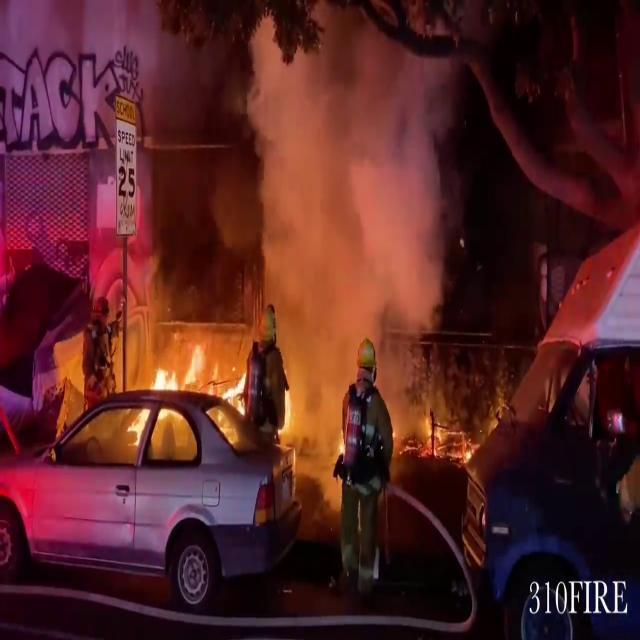Fire: (138, 330, 248, 408)
Smoke: (130, 2, 458, 400)
